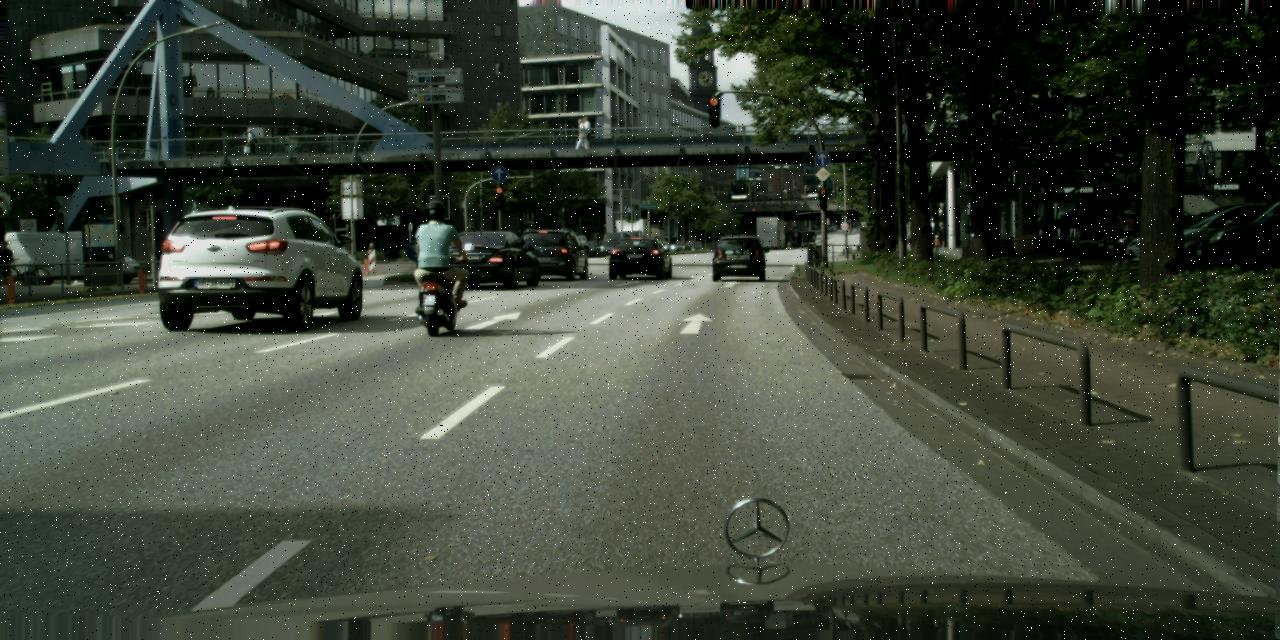ped: (415, 201, 457, 305), (0, 240, 19, 304), (1102, 210, 1116, 245), (578, 116, 591, 149), (574, 118, 587, 150), (244, 127, 256, 158), (931, 234, 940, 255), (812, 250, 821, 268), (642, 233, 647, 246), (654, 235, 658, 248), (813, 224, 815, 230), (818, 224, 819, 230)
